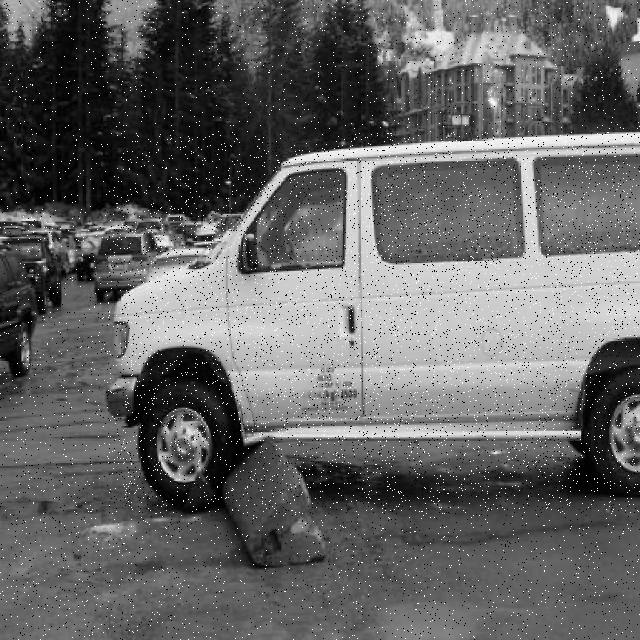Van: (107, 133, 640, 514)
